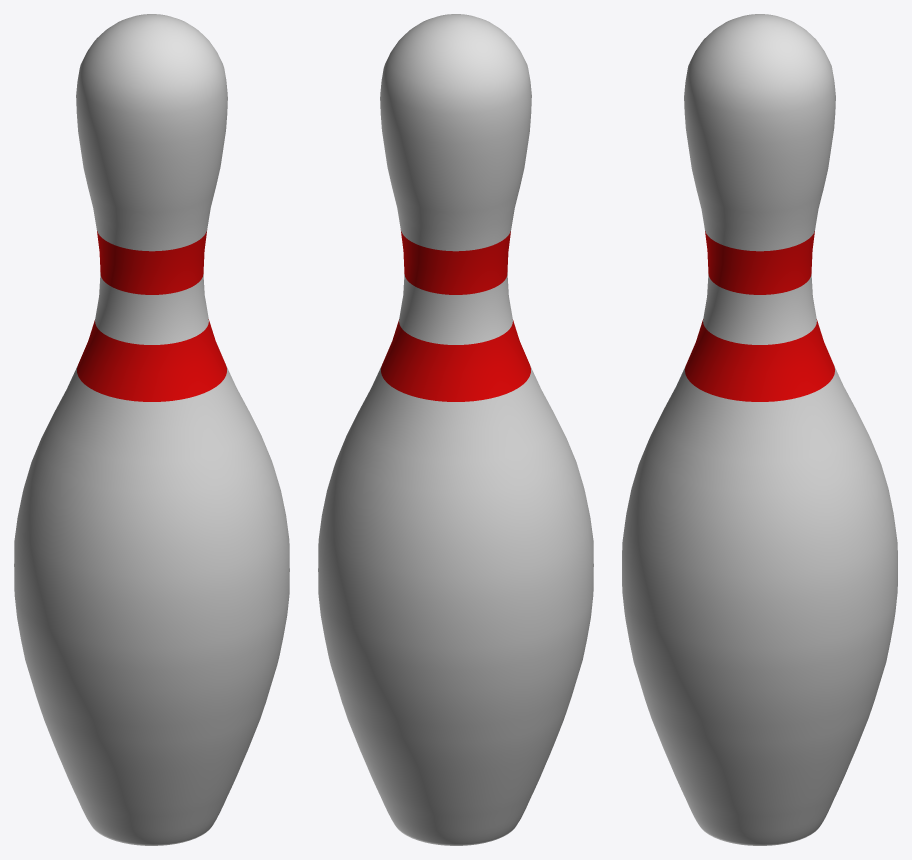
Rendered from bowlingPinFinalBetter2.fbx.
3 renders of one model, left to right at view 1: azimuth 30°, elevation 25°; view 2: azimuth 150°, elevation 25°; view 3: azimuth 270°, elevation 25°, orthographic.
Visible parts, largest first — view 1: Sphere_001; view 2: Sphere_001; view 3: Sphere_001.
Boxes of the visible parts, <box> form: Sphere_001: <box>14,14,289,845</box>; Sphere_001: <box>318,14,593,845</box>; Sphere_001: <box>622,14,897,845</box>.
Size of the model in its own units: 2.86 by 9.17 by 2.87.
